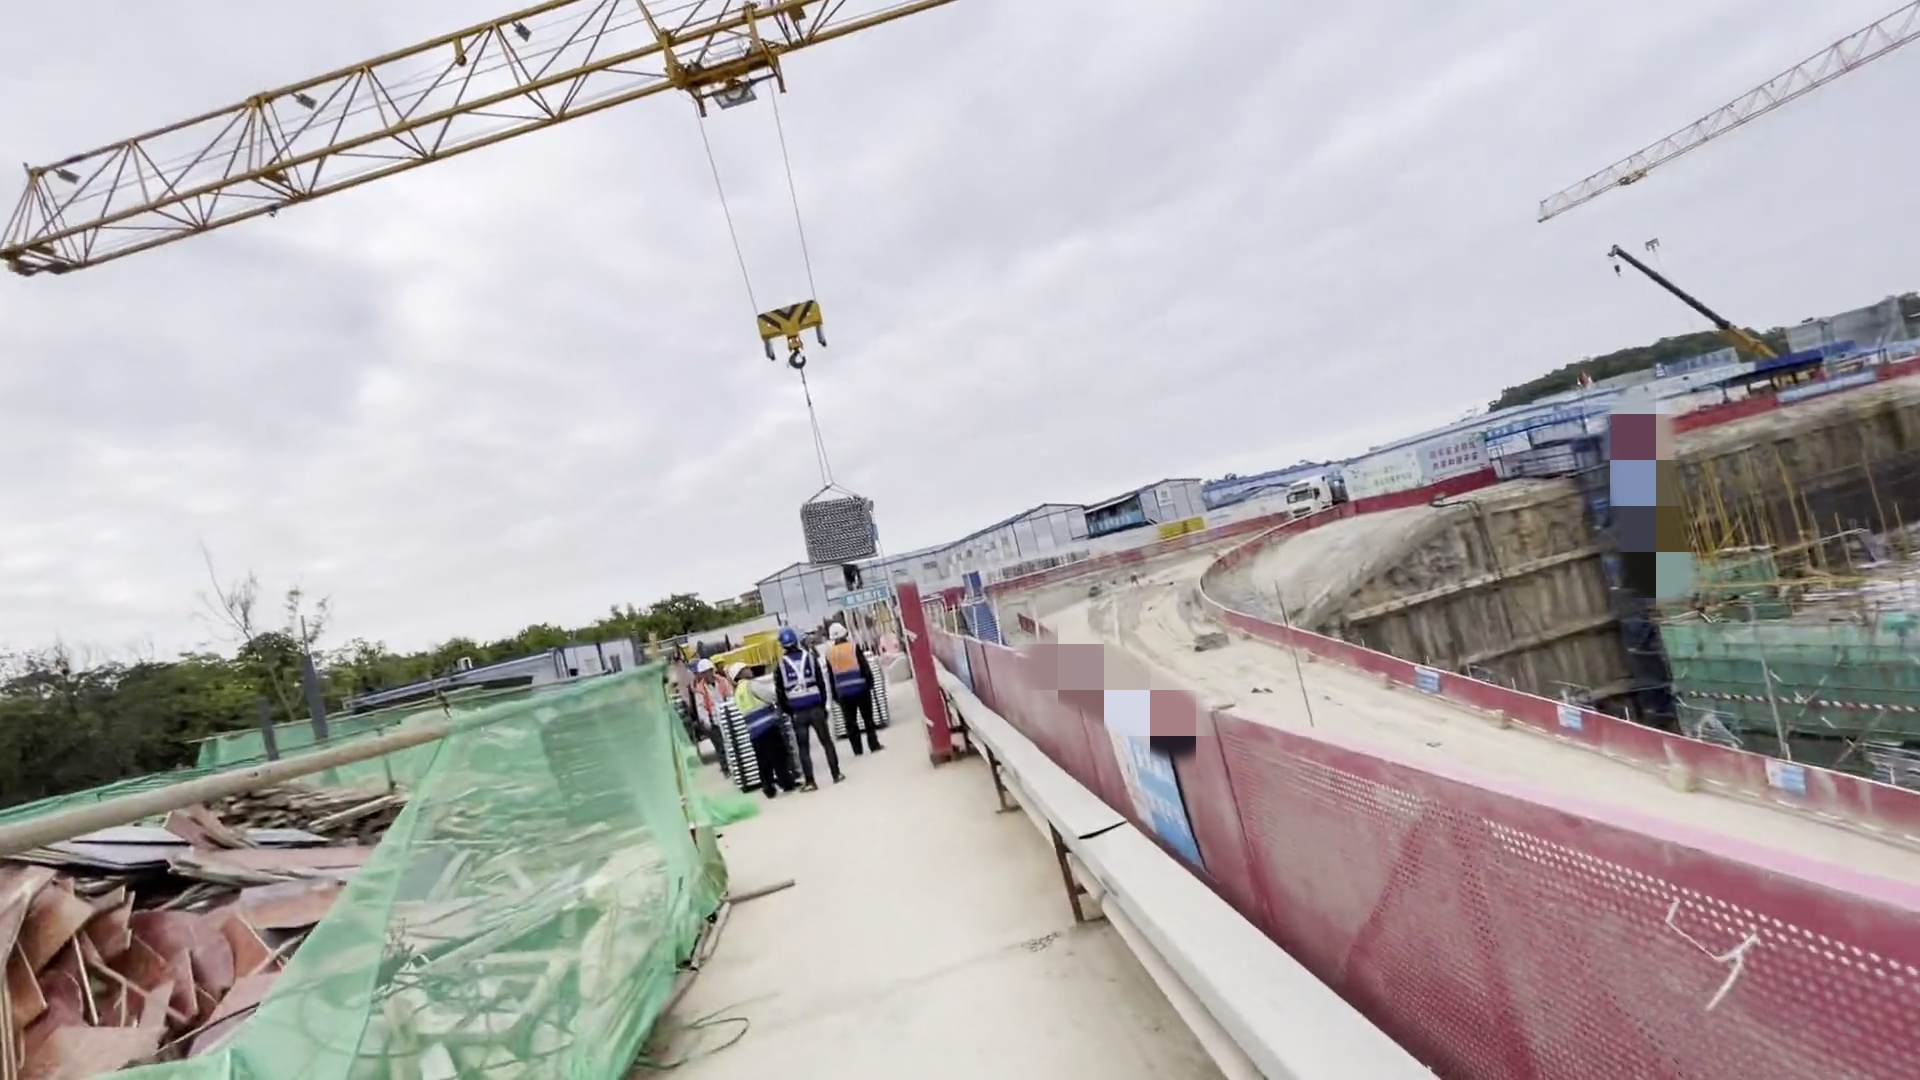fence: (946, 556, 1870, 1080)
helmet: (776, 624, 801, 649), (729, 660, 751, 684), (696, 659, 719, 676), (828, 621, 848, 640)
hook: (756, 288, 841, 379), (1638, 221, 1668, 264)
person: (770, 620, 845, 798), (728, 652, 798, 796), (828, 628, 896, 767), (693, 658, 735, 733)
scaffold: (780, 474, 920, 579)
slogan: (1107, 701, 1222, 882), (1396, 653, 1465, 713), (1763, 743, 1801, 806), (1552, 696, 1587, 738)
vest: (776, 653, 826, 713), (826, 641, 873, 704), (735, 678, 778, 738), (694, 676, 732, 729)
